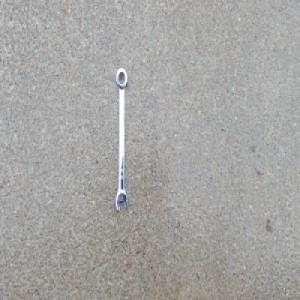Wrench: (115, 65, 128, 212)
